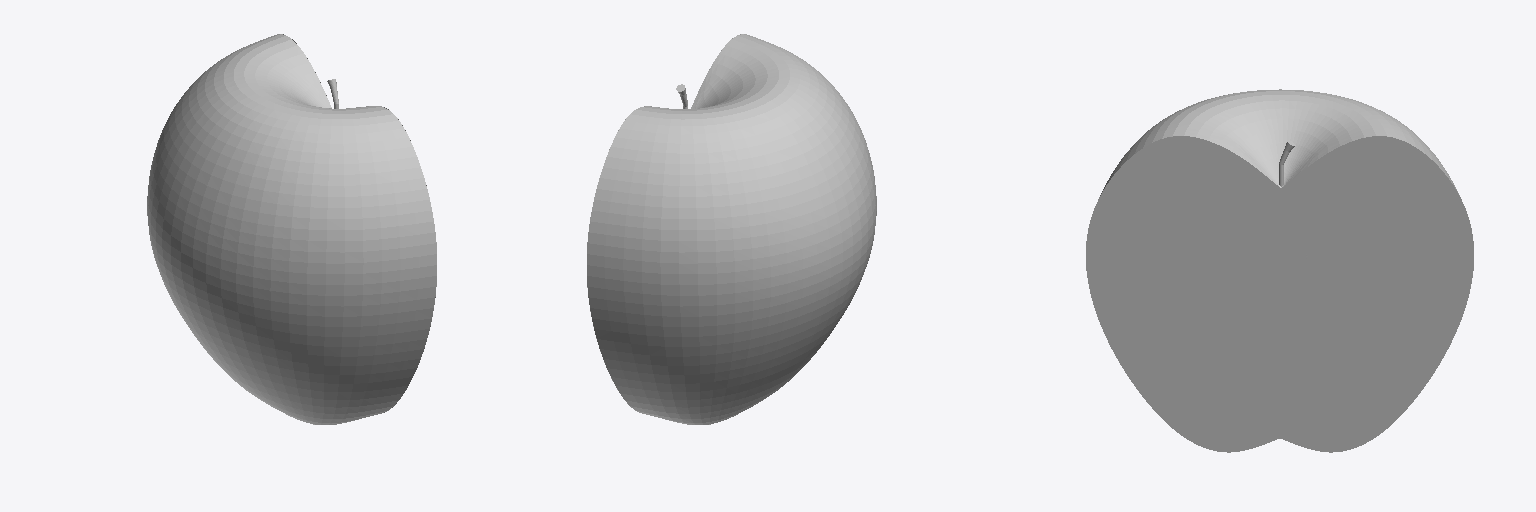
Rendered from apple_sliced.obj.
The picture shows the model from 3 angles: view 1: azimuth 30°, elevation 25°; view 2: azimuth 150°, elevation 25°; view 3: azimuth 270°, elevation 25°; orthographic projection.
Visible parts, largest first — view 1: Sphere; view 2: Sphere; view 3: Sphere.001, Sphere.
Boxes of the visible parts, x1,y1,x2,y2 form: Sphere: [147, 34, 436, 424]; Sphere: [587, 34, 876, 424]; Sphere.001: [1086, 136, 1473, 452]; Sphere: [1100, 89, 1459, 195].
Size of the model in its own units: 0.0401 by 0.0726 by 0.079.